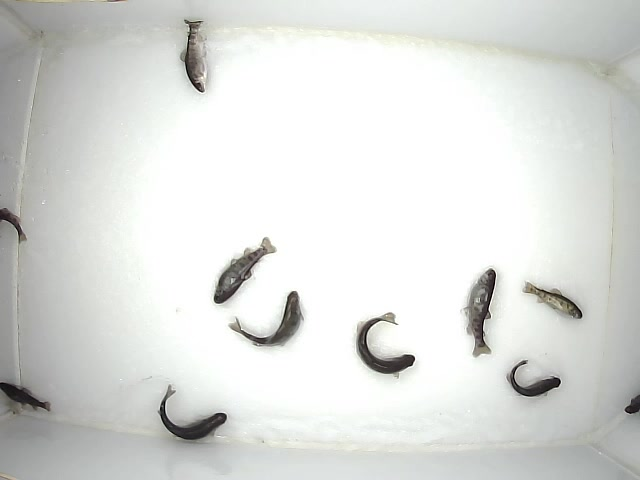fish: (211, 233, 277, 306), (228, 287, 306, 348), (353, 309, 415, 379), (156, 383, 228, 442), (458, 265, 502, 358), (518, 280, 586, 321), (505, 358, 563, 399), (180, 16, 209, 93), (1, 381, 54, 415)
